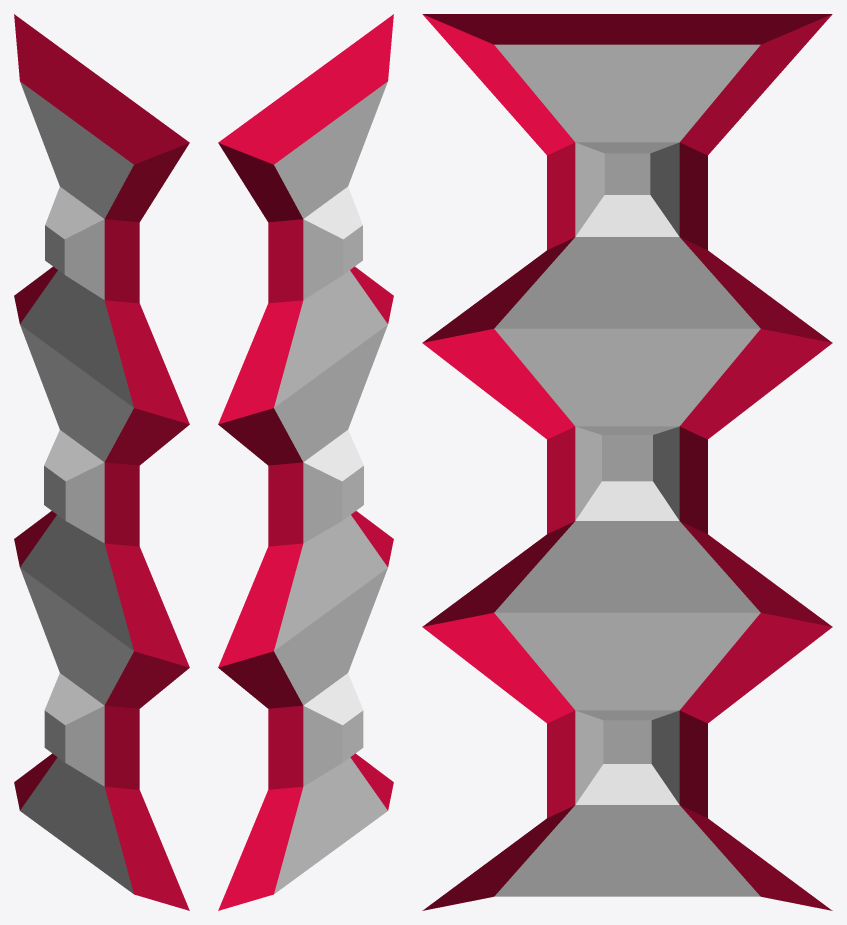
Rendered from LaserGate.fbx.
3 views of the same model, side by side, from view 1: azimuth 30°, elevation 25°; view 2: azimuth 150°, elevation 25°; view 3: azimuth 270°, elevation 25° (orthographic). The views are drawn at different scales.
Visible parts, largest first — view 1: Cube; view 2: Cube; view 3: Cube.
Part boxes in pixels (left/top/right/bottom): Cube: left=14, top=14, right=189, bottom=910; Cube: left=218, top=14, right=393, bottom=910; Cube: left=422, top=14, right=832, bottom=910.
Bounding box in the file's own units: 36.38 × 529 × 219.
